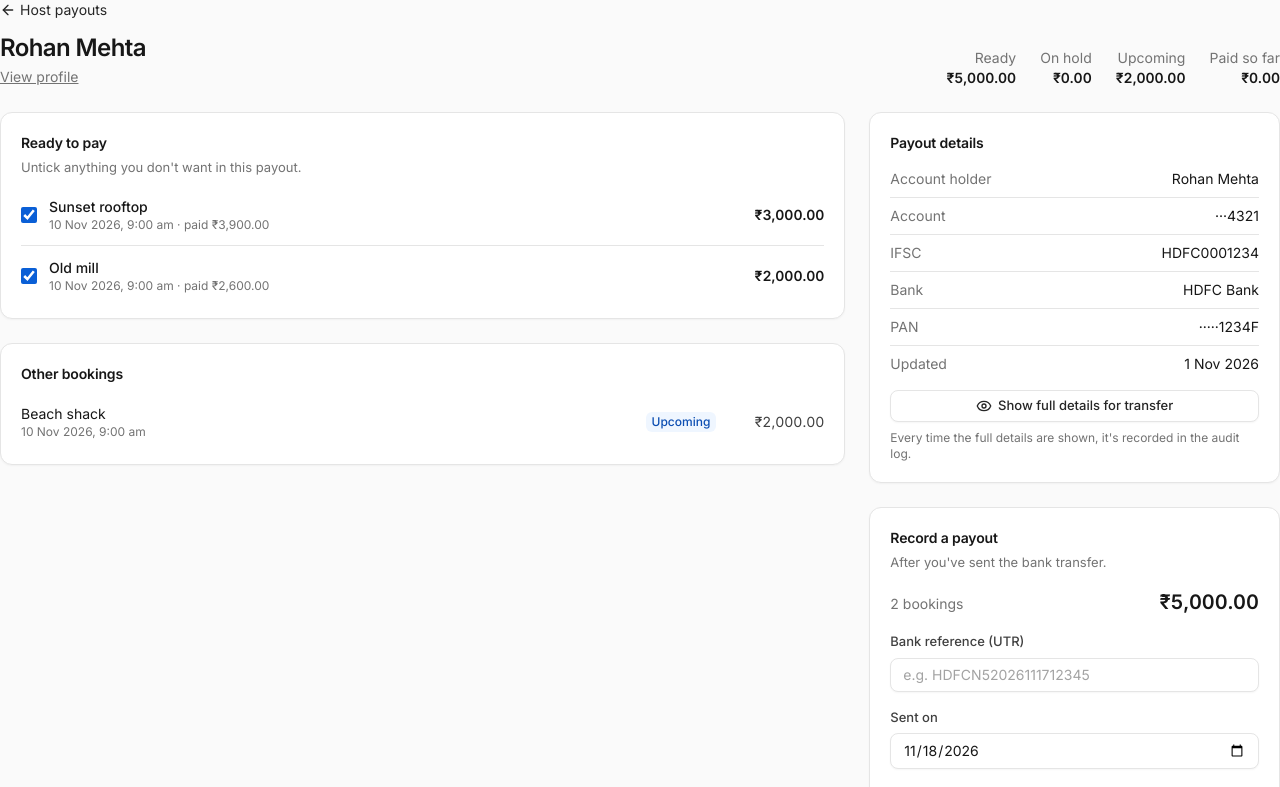
Test case: Host payout › shows the full bank details only on request
The width and height of the screenshot is (1280, 787).
Expected: the text "···4321" is shown, [1215,206,1259,226]
Expected: the text "50100012344321" is not shown
Click the button "Show full details for transfer" at (1075, 406), box [890,390,1259,422]
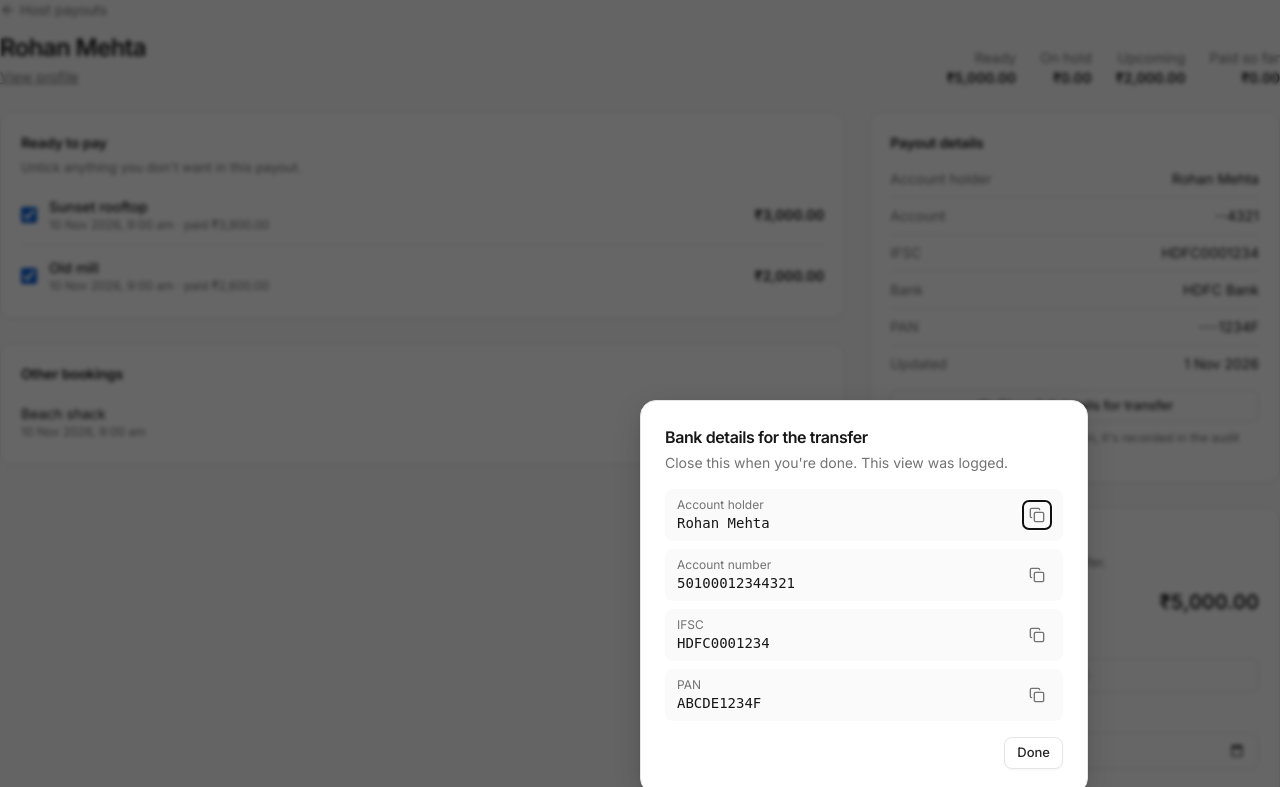
Now the text "50100012344321" is shown, box [677,573,795,593]
